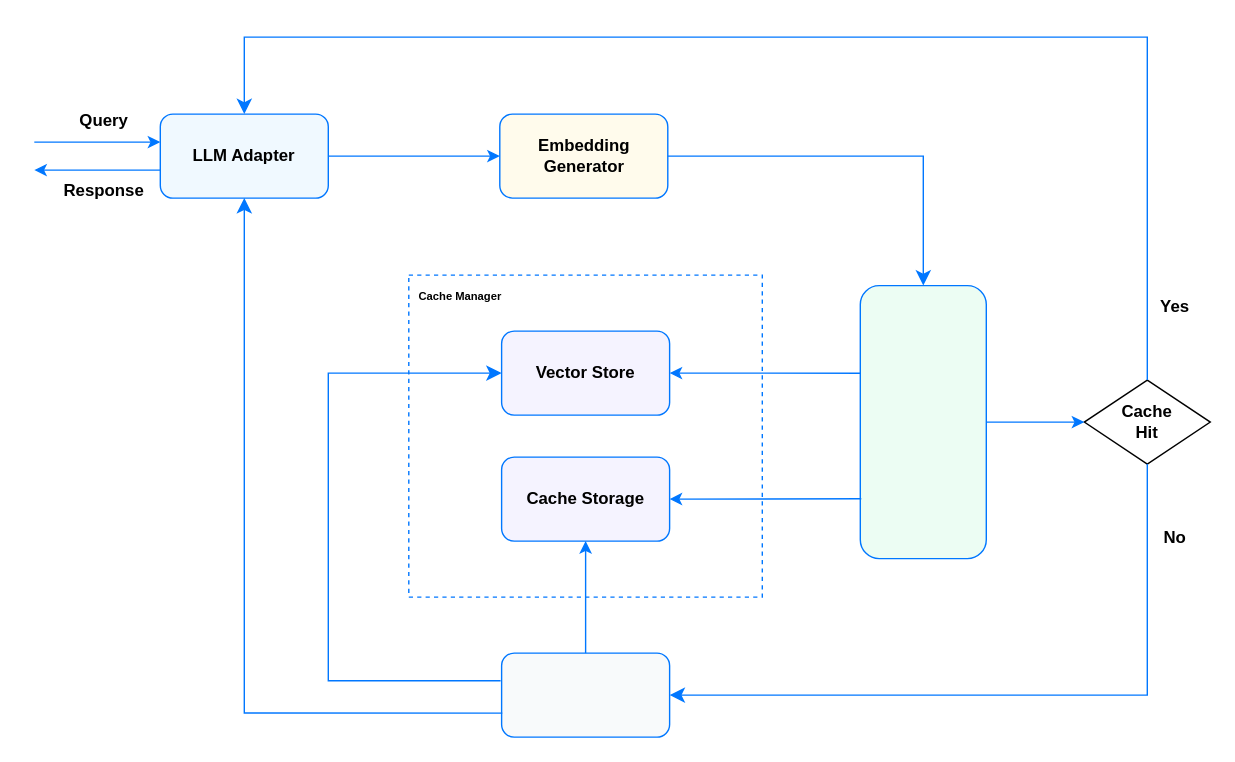
This 1235x762 diagram has some shape labels left out. Here are the shapes that lost their labels. From the top down, the centre of each, then its label:
pixel 922 421: Similarity Evaluator
pixel 585 694: LLM
